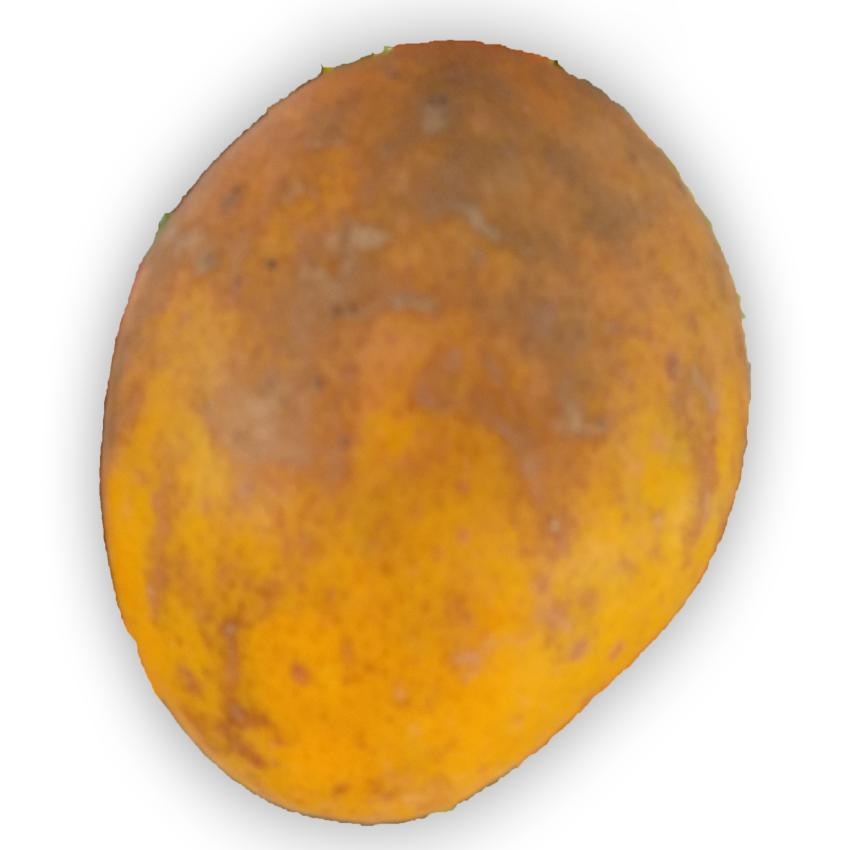Mal estado: (86, 32, 798, 833)
